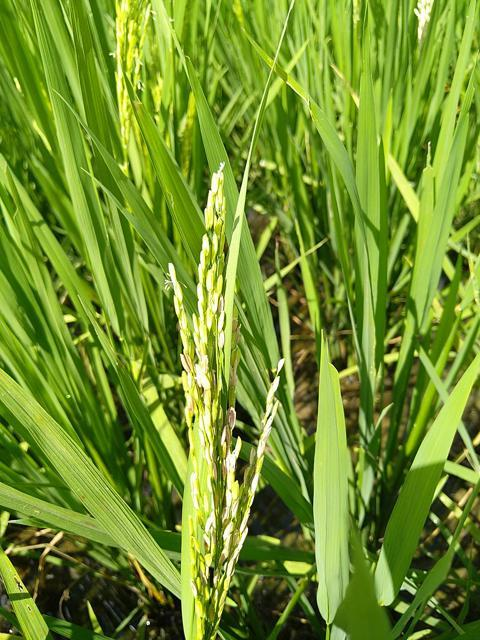Panicle Blight: (168, 167, 280, 639)
